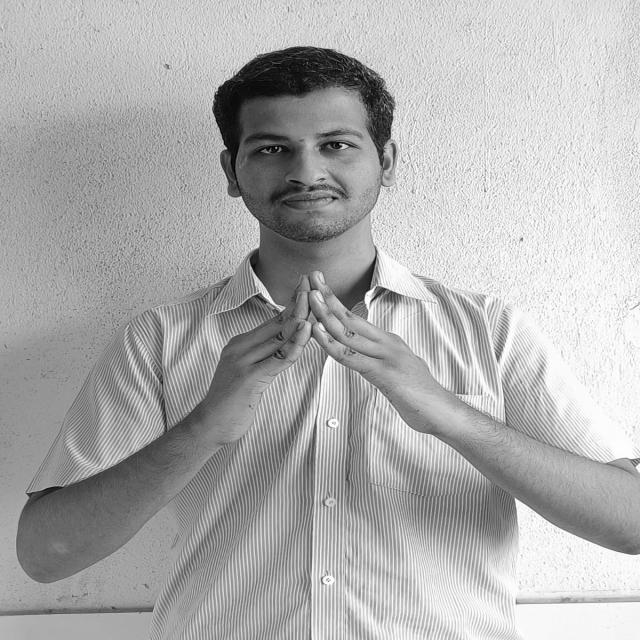Home: (205, 269, 439, 442)
